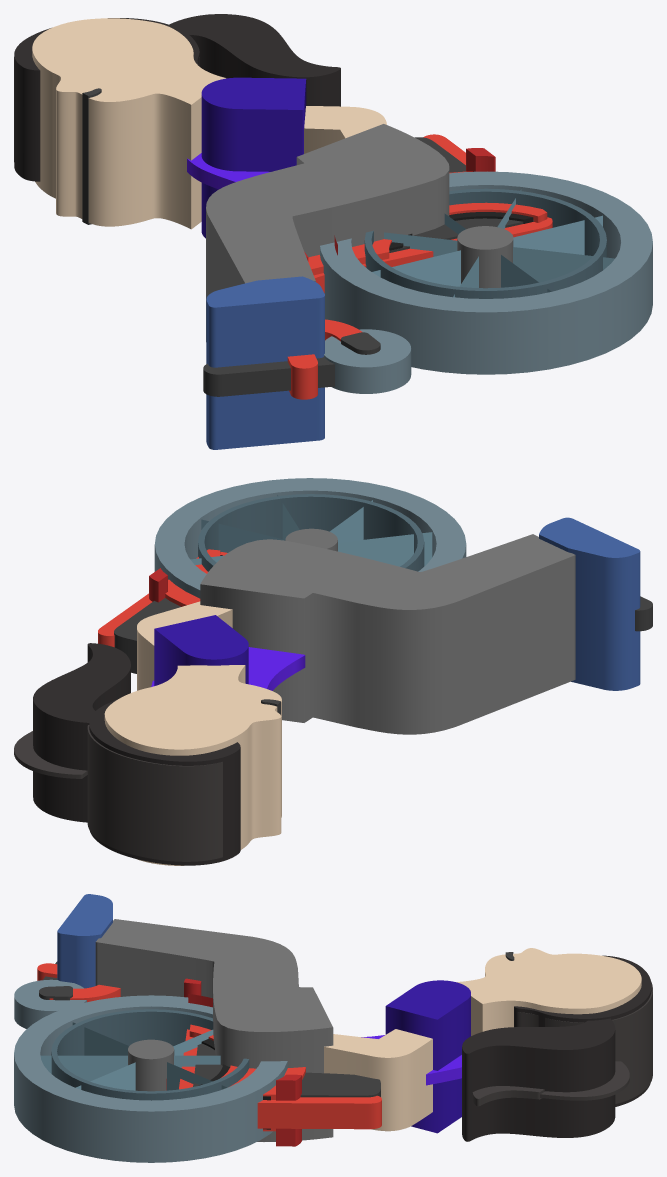
File: emoji_u1f469_1f3fb_200d_1f9bd.glb
The picture shows the model from 3 angles, top to bottom: view 1: azimuth 30°, elevation 25°; view 2: azimuth 150°, elevation 25°; view 3: azimuth 270°, elevation 25°; orthographic projection. The views are drawn at different scales.
Visible parts, largest first — view 1: emoji_u1f469_1f3fb_200d_1f9bd; view 2: emoji_u1f469_1f3fb_200d_1f9bd; view 3: emoji_u1f469_1f3fb_200d_1f9bd.
Part boxes in pixels (x1,y1,x2,y2): emoji_u1f469_1f3fb_200d_1f9bd: (14, 14, 652, 449); emoji_u1f469_1f3fb_200d_1f9bd: (14, 478, 652, 865); emoji_u1f469_1f3fb_200d_1f9bd: (14, 894, 652, 1162).
Bounding box in the file's own units: 0.022 × 0.0064 × 0.0316.
